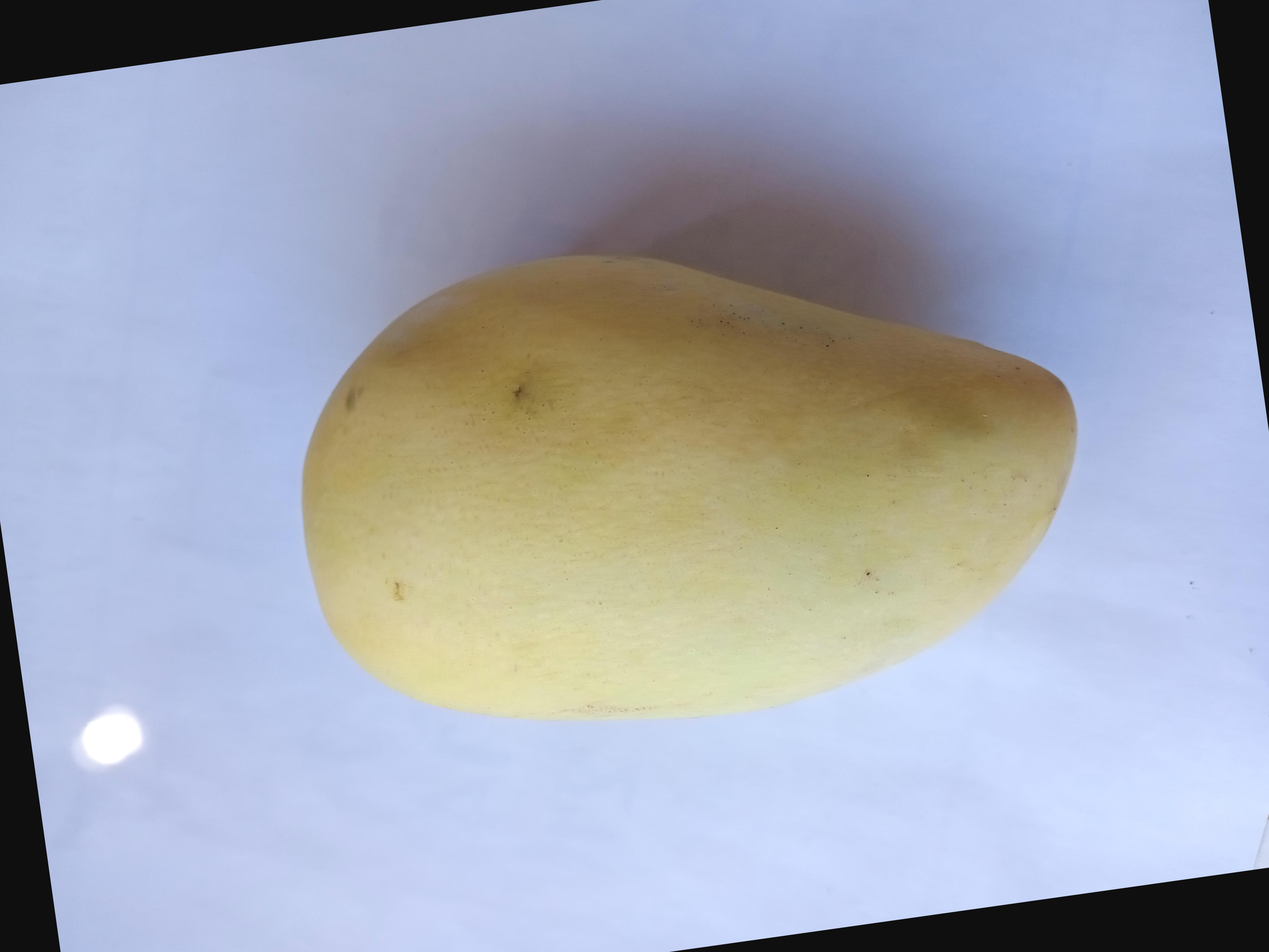Mango Ripe: (137, 278, 1081, 952)
